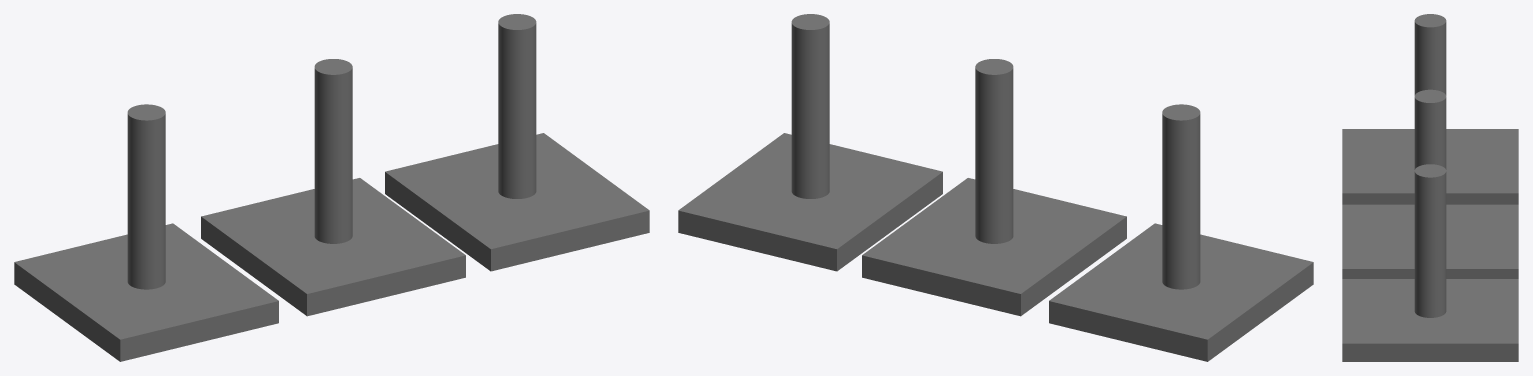
The model's file is Torres.obj.
3 views of the same model, side by side, from view 1: azimuth 30°, elevation 25°; view 2: azimuth 150°, elevation 25°; view 3: azimuth 270°, elevation 25° (orthographic). The views are drawn at different scales.
Parts seen in each view (by area): view 1: torre1, torre3, torre2; view 2: torre1, torre3, torre2; view 3: torre3, torre1, torre2.
Part boxes in pixels (left/top/right/bottom): torre1: left=14, top=104, right=278, bottom=361; torre3: left=385, top=14, right=649, bottom=271; torre2: left=201, top=59, right=465, bottom=316; torre1: left=1049, top=104, right=1313, bottom=361; torre3: left=678, top=14, right=942, bottom=271; torre2: left=862, top=59, right=1126, bottom=316; torre3: left=1342, top=164, right=1518, bottom=361; torre1: left=1342, top=14, right=1518, bottom=204; torre2: left=1342, top=89, right=1518, bottom=278.
Bounding box in the file's own units: 3.9 × 1.35 × 1.35.
Materials: 4 (4 with a texture image).
